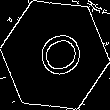O_SW: (26, 25, 84, 85)
